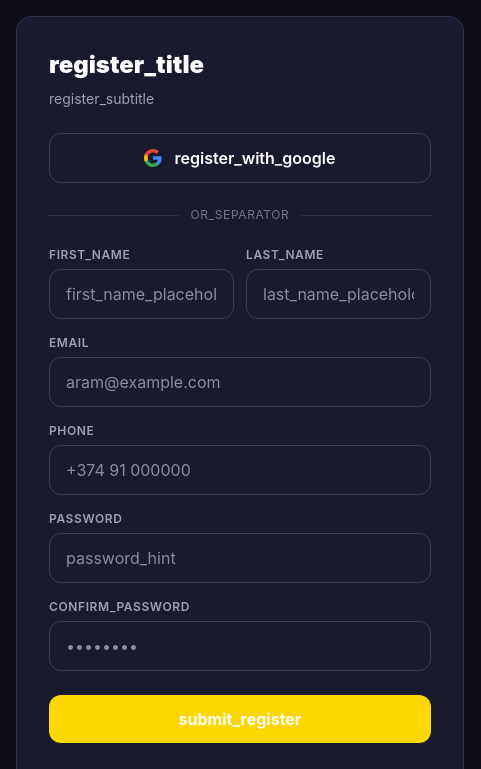
Test: RegisterPage › rejects an invalid email format
The image size is (481, 769).
In the field with placeholder "first_name_placeholder": (142, 294) x1=49 y1=269 x2=234 y2=319, type "Aram"
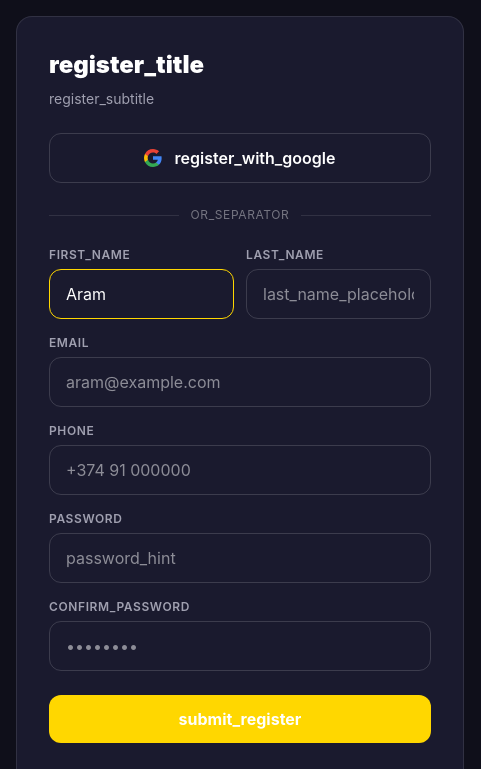
In the field with placeholder "last_name_placeholder": (338, 294) x1=246 y1=269 x2=431 y2=319, type "Sargsyan"
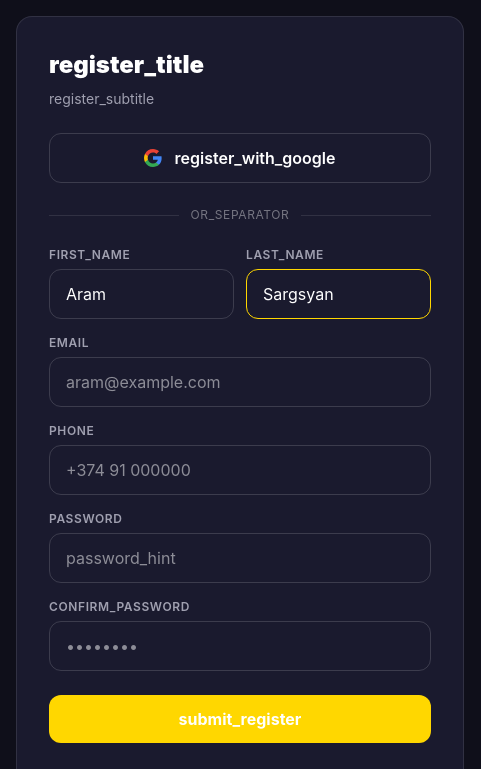
In the field with placeholder "aram@example.com": (240, 382) x1=49 y1=357 x2=431 y2=407, type "not-an-email"
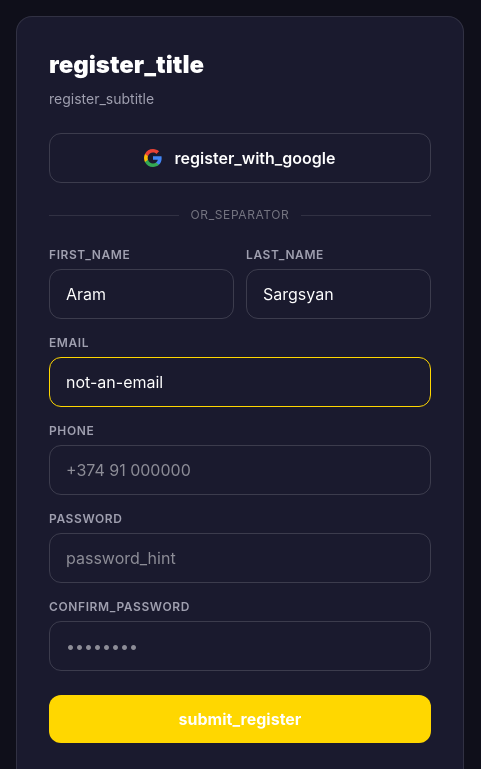
In the password field with placeholder "password_hint": (240, 558) x1=49 y1=533 x2=431 y2=583, type "hunter2222"
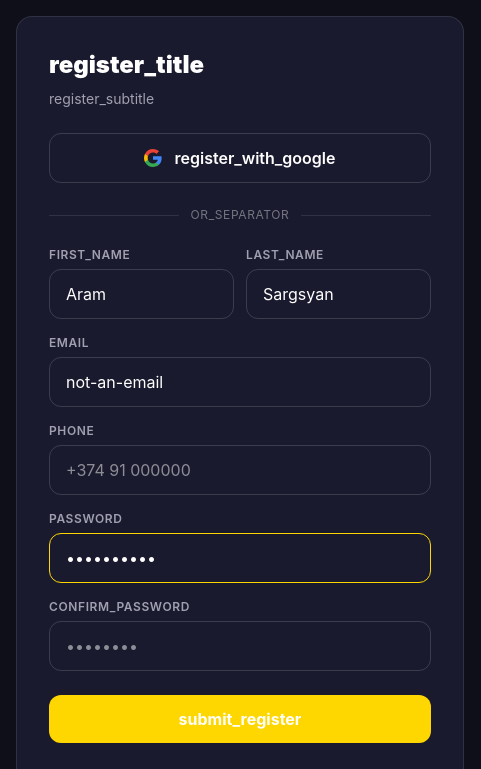
In the password field with placeholder "••••••••": (240, 646) x1=49 y1=621 x2=431 y2=671, type "hunter2222"
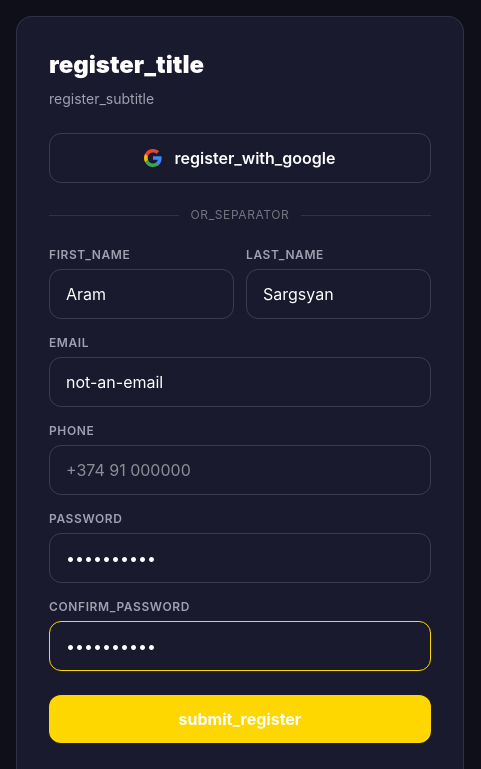
Click the button "submit_register": (240, 719) x1=49 y1=695 x2=431 y2=743
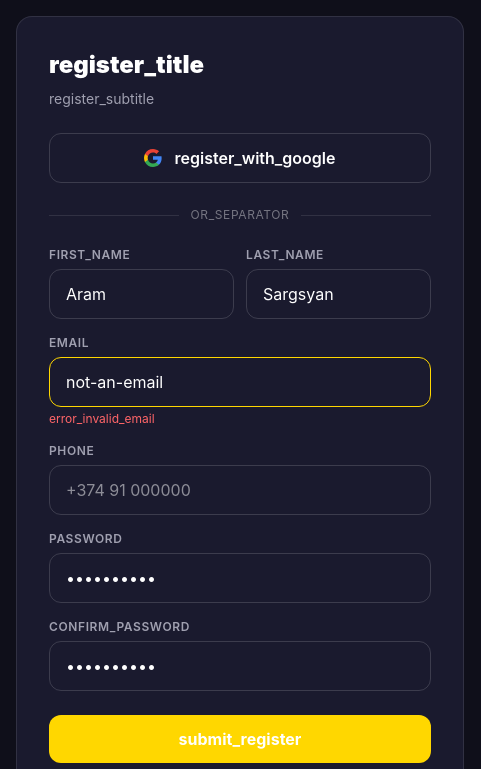
Expected: the text "error_invalid_email" is shown, x1=49 y1=411 x2=154 y2=426
